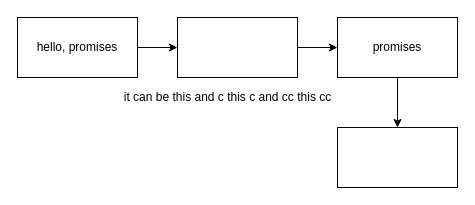
Image size: 475x205. Some labels were removed from this diagram. Each missing label, with the box of its shape:
async/await riddle: (336, 126, 458, 188)
callback: (176, 16, 298, 78)
